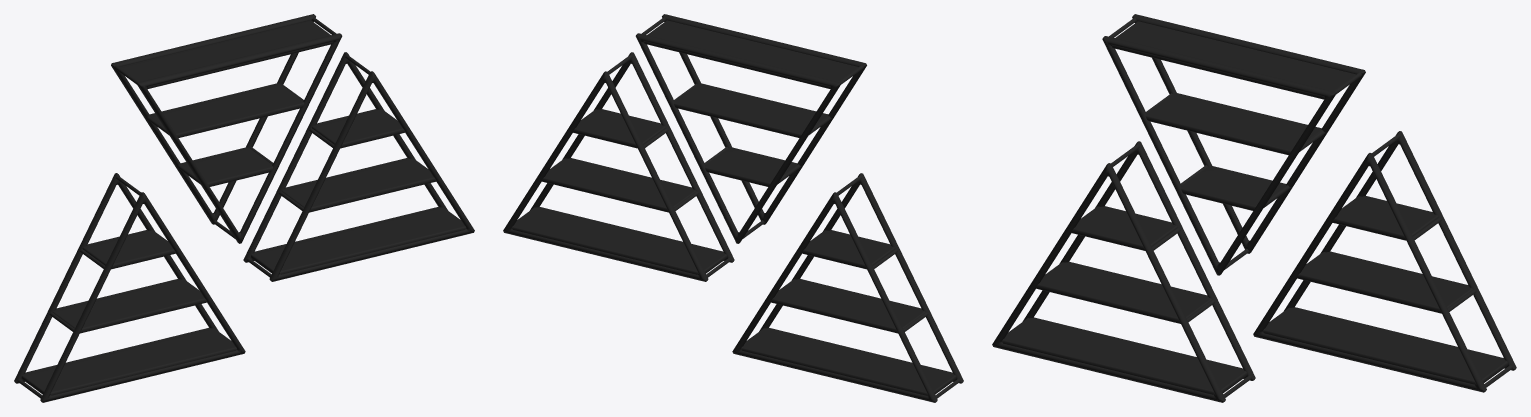
Rendered from shelf_011.fbx.
3 views of the same model, side by side, from view 1: azimuth 30°, elevation 25°; view 2: azimuth 150°, elevation 25°; view 3: azimuth 330°, elevation 25° (orthographic). The views are drawn at different scales.
Visible parts, largest first — view 1: shelf_011; view 2: shelf_011; view 3: shelf_011.
Boxes of the visible parts, bbox=[...] form: shelf_011: bbox=[14, 14, 474, 402]; shelf_011: bbox=[503, 14, 963, 402]; shelf_011: bbox=[992, 14, 1516, 402].
Bounding box in the file's own units: 273 × 32.29 × 178.
